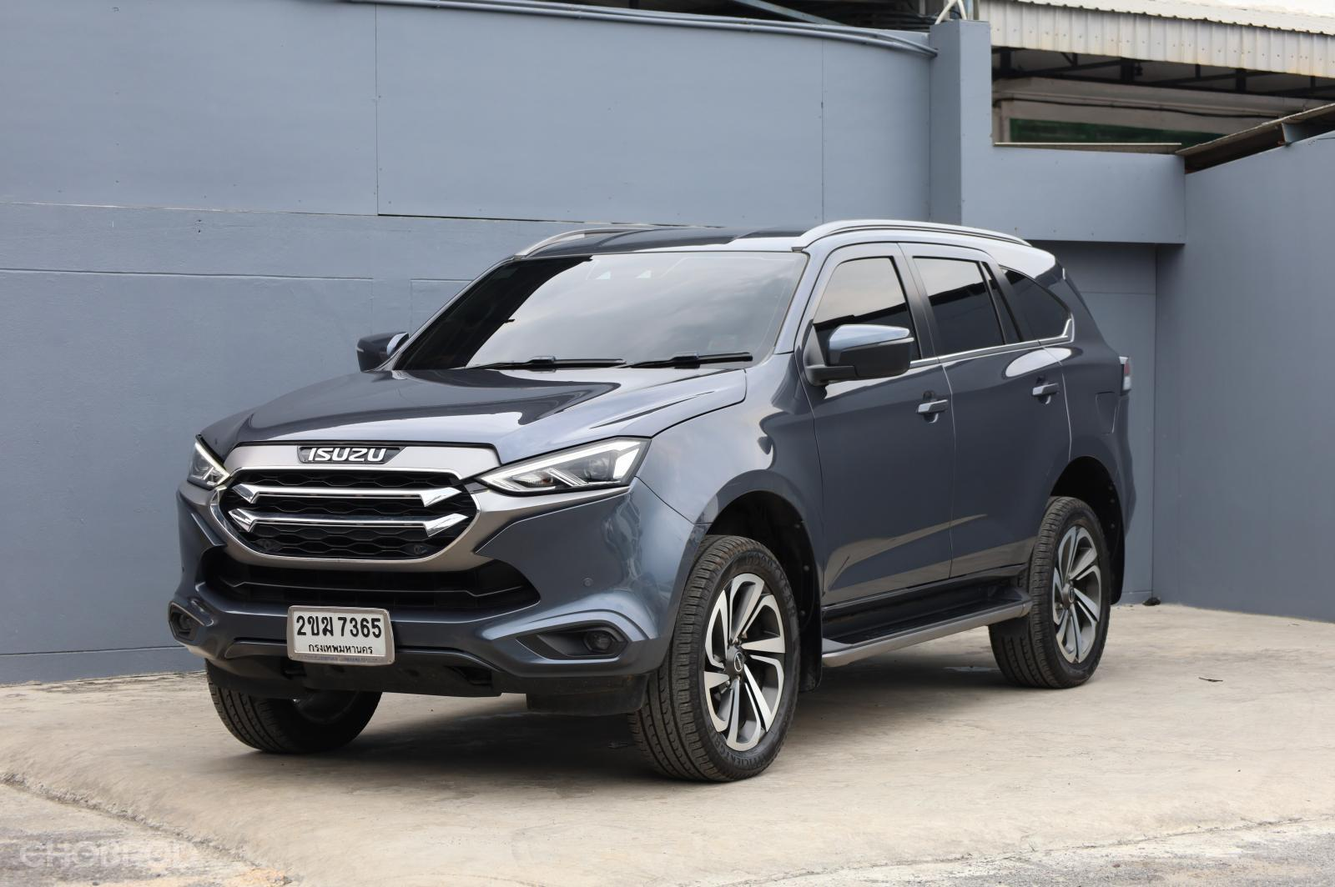license-plate: (276, 593, 403, 685)
